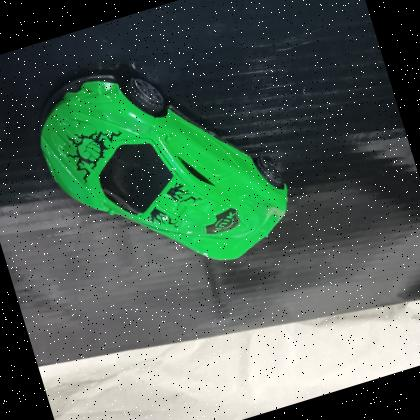Car: (38, 70, 288, 260)
